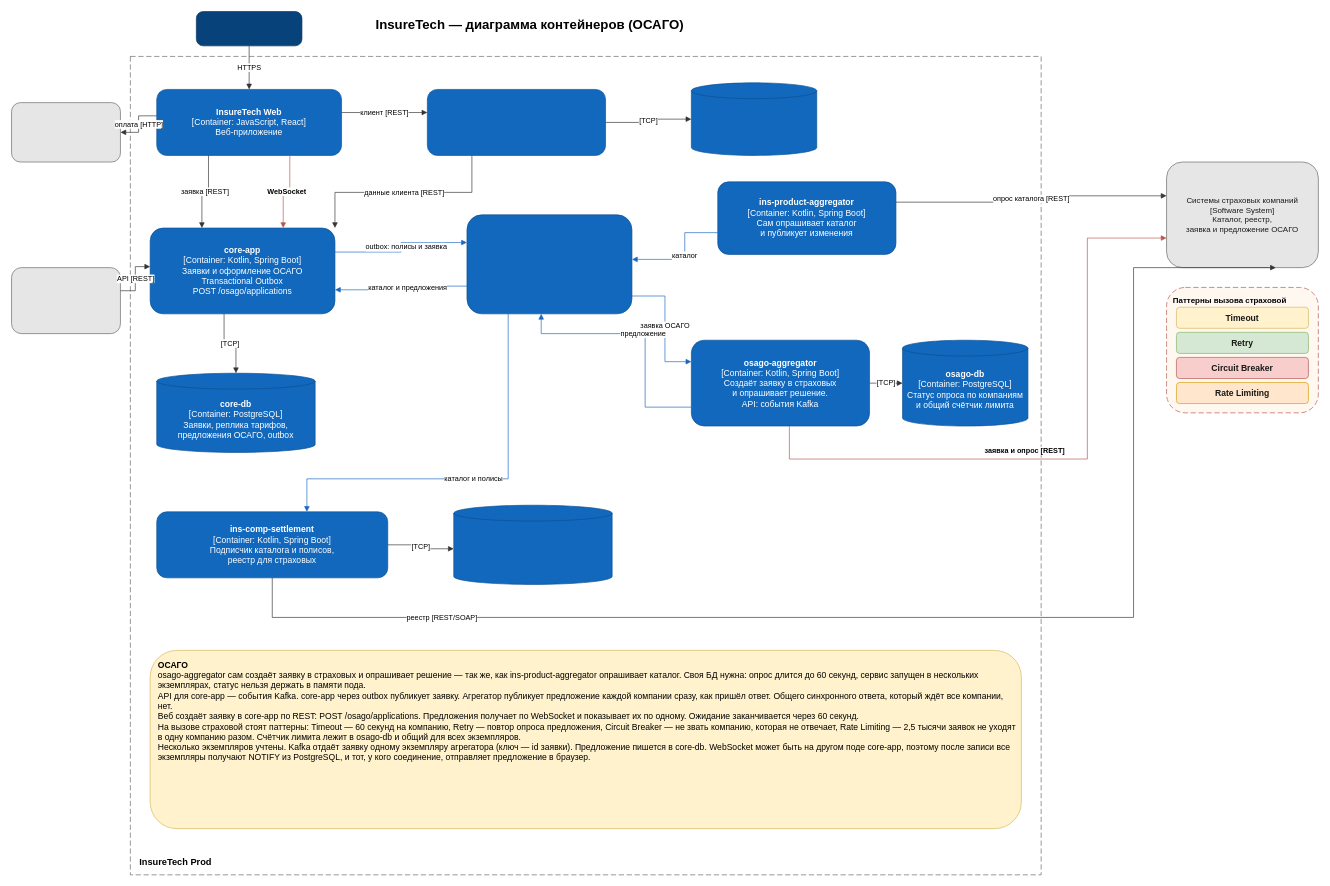
This 1330x886 diagram has some shape labels left out. The centre of each missing label's shape, as x and y in pixels:
client-info [Container: Kotlin, Spring Boot] Учёт клиентских данных: the point at 516,122
client-info-db [Container: PostgreSQL] Данные клиентов: the point at 754,118
ins-comp-settlement-db [Container: PostgreSQL] Полисы и условия расчёта: the point at 532,544
Kafka [Container: Apache Kafka] Каталог, полисы, заявки и предложения ОСАГО: the point at 549,264
Клиент [Person]: the point at 249,28
Платёжный сервис [Software System] Оплата страховки: the point at 65,132
Системы партнёров [Software System] Оформление страховок через API: the point at 65,300
